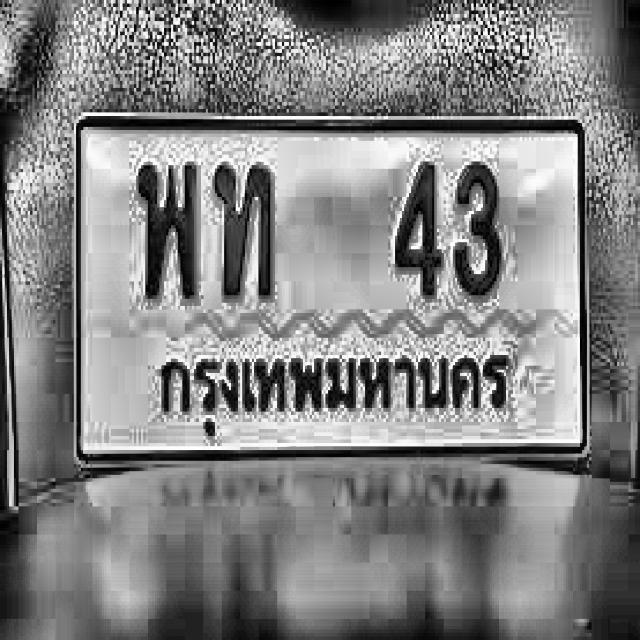license-plate: (72, 110, 598, 471)
